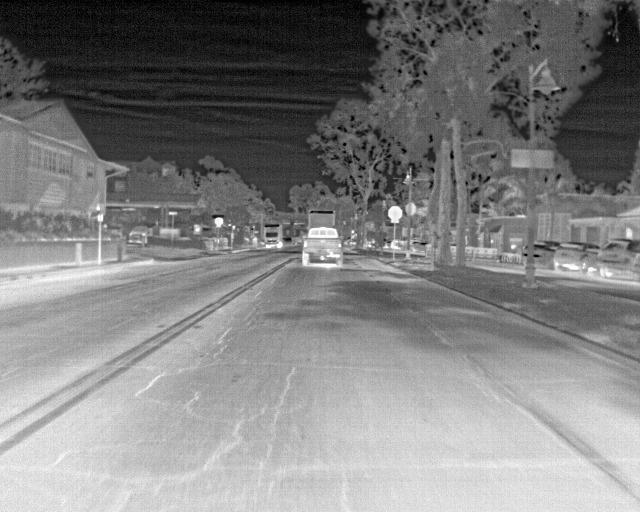car: (601, 238, 638, 278), (303, 227, 341, 265), (555, 239, 598, 272), (532, 238, 556, 267), (127, 223, 148, 245)
